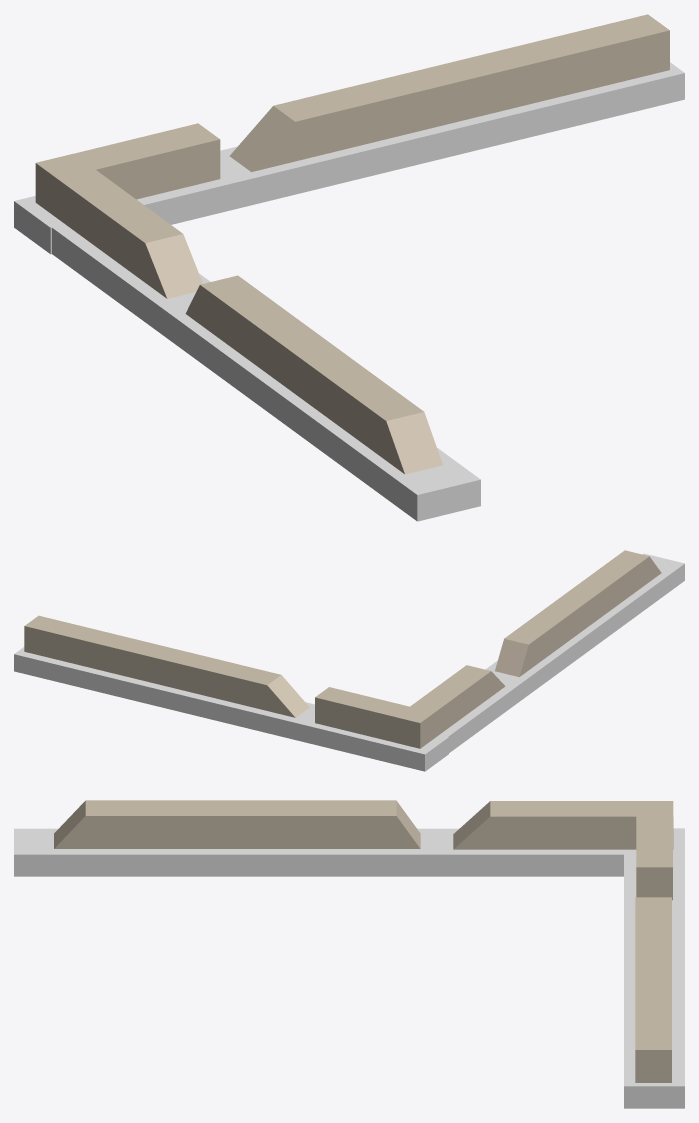
Rendered from Rail_Angle_Grand.FBX.
3 views of the same model, one above another, from view 1: azimuth 30°, elevation 25°; view 2: azimuth 150°, elevation 25°; view 3: azimuth 270°, elevation 25° (orthographic). The views are drawn at different scales.
Visible parts, largest first — view 1: Box479, Box475, Box478, Box477, Box476, Box480; view 2: Box479, Box475, Box477, Box478, Box476, Box480; view 3: Box478, Box477, Box476, Box475, Box479, Box480.
Boxes of the visible parts, <box> form: Box479: <box>229,14,669,171</box>; Box475: <box>14,62,684,254</box>; Box478: <box>52,224,480,521</box>; Box477: <box>185,275,442,474</box>; Box476: <box>35,154,202,298</box>; Box480: <box>72,123,220,199</box>; Box479: <box>24,615,309,717</box>; Box475: <box>14,647,448,771</box>; Box477: <box>495,550,661,677</box>; Box478: <box>439,553,684,752</box>; Box476: <box>395,665,505,748</box>; Box480: <box>315,687,409,742</box>; Box478: <box>14,828,624,876</box>; Box477: <box>54,800,420,848</box>; Box476: <box>453,801,673,849</box>; Box475: <box>624,828,684,1108</box>; Box479: <box>635,897,671,1082</box>; Box480: <box>636,816,672,900</box>.
Bounding box in the file's own units: 197 × 19.64 × 216.
